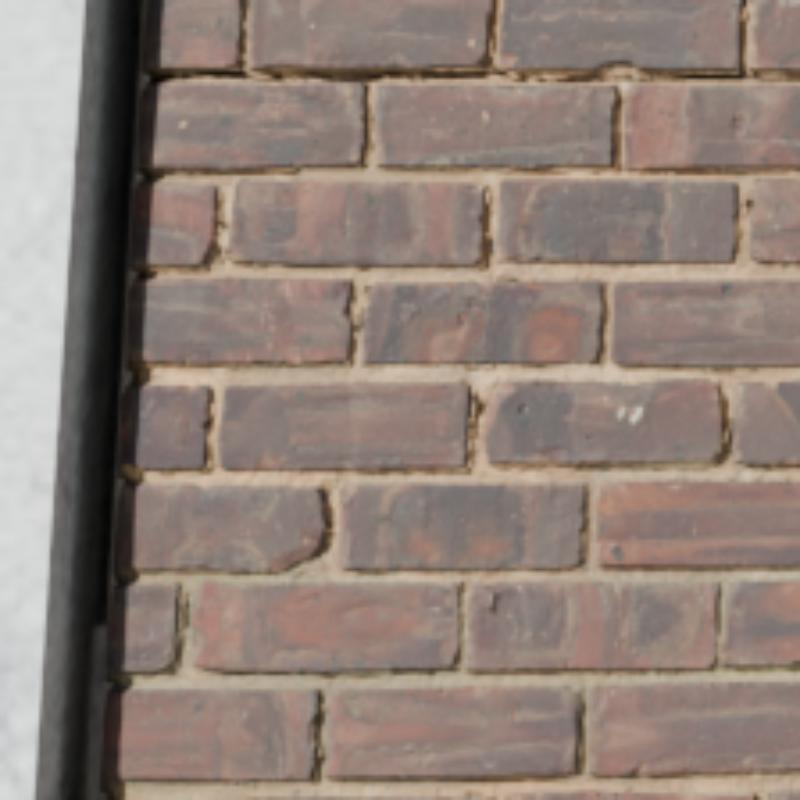crack: (157, 71, 456, 79), (560, 71, 756, 78), (466, 68, 539, 79)
